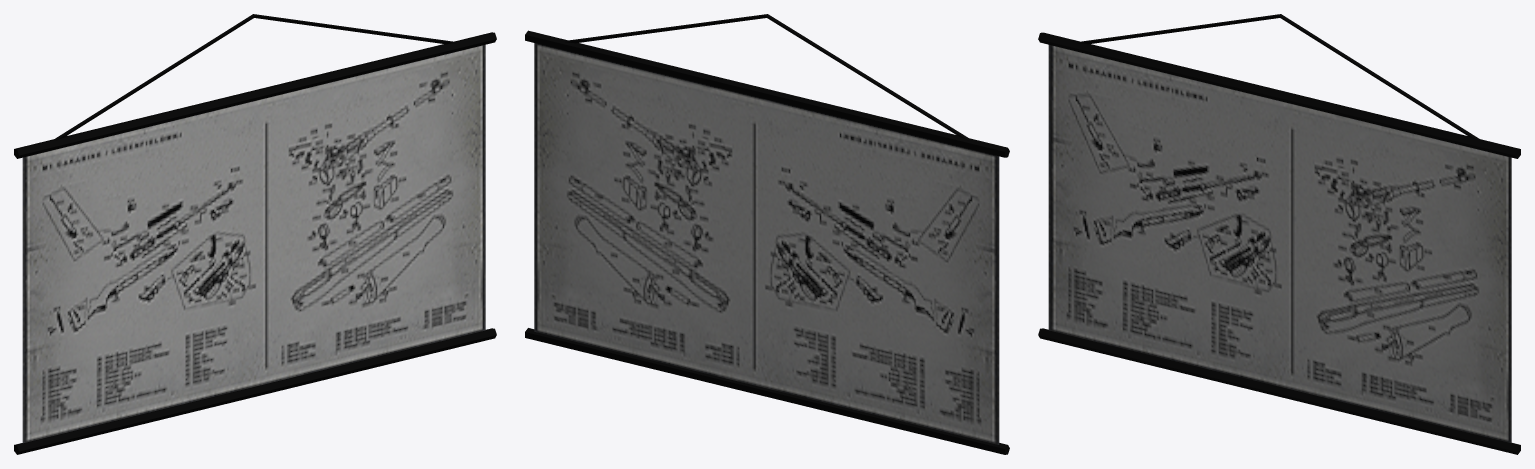
The model's file is Training_Poster7.fbx.
The picture shows the model from 3 angles, left to right: view 1: azimuth 30°, elevation 25°; view 2: azimuth 150°, elevation 25°; view 3: azimuth 330°, elevation 25°; orthographic projection.
Visible parts, largest first — view 1: a1plakat04, Cylinder01, Cylinder02, Loft01; view 2: a1plakat04, Cylinder01, Cylinder02, Loft01; view 3: a1plakat04, Cylinder01, Cylinder02, Loft01.
Part boxes in pixels (x1,y1,x2,y2): a1plakat04: [22, 44, 485, 443]; Cylinder01: [14, 32, 496, 158]; Cylinder02: [14, 328, 496, 454]; Loft01: [53, 14, 456, 140]; a1plakat04: [534, 43, 999, 444]; Cylinder01: [525, 30, 1009, 157]; Cylinder02: [525, 328, 1009, 454]; Loft01: [565, 14, 968, 140]; a1plakat04: [1048, 45, 1511, 443]; Cylinder01: [1038, 32, 1520, 158]; Cylinder02: [1038, 328, 1520, 454]; Loft01: [1078, 14, 1480, 140].
Size of the model in its own units: 198 by 151 by 3.62.
